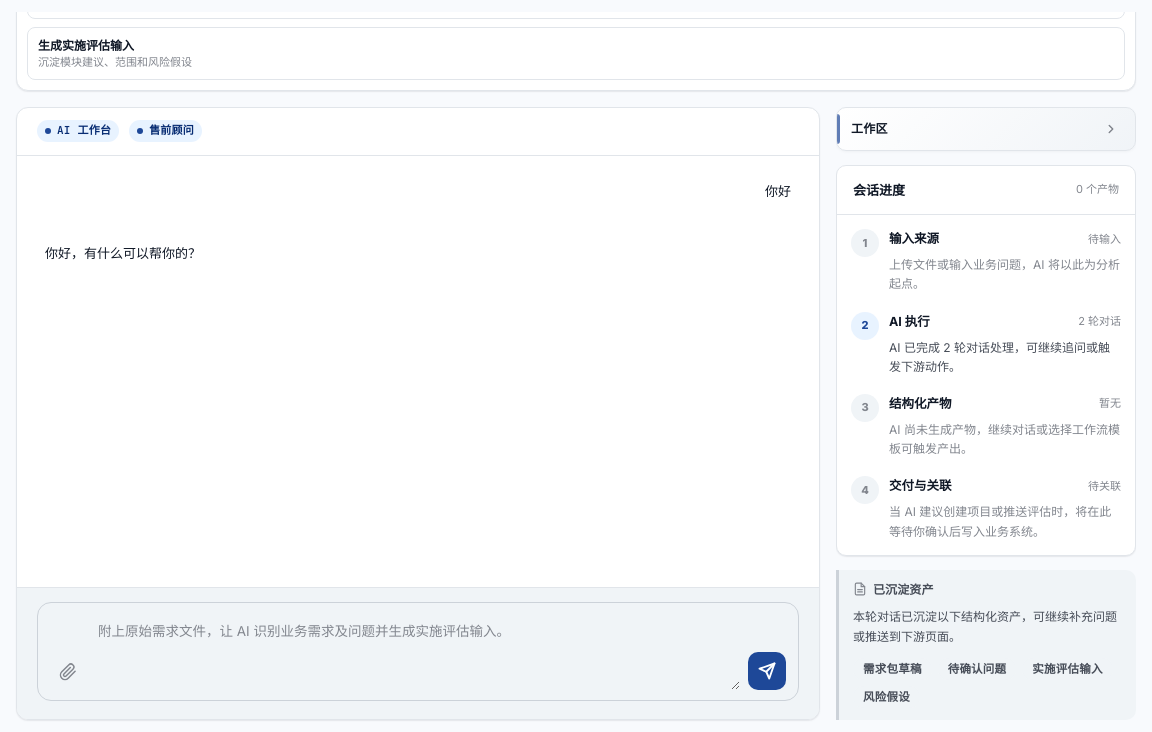
Test: run-submit: Step 3 前端发送路径 Run 化 › run-submit: enabled 时先尝试 Run 提交，202 后不走旧同步路径
(page scrolled)
Expected: the text "你好，有什么可以帮你的？" is shown, [45, 242, 201, 264]
Type "我的问题" into the text box at {"x": 417, "y": 651}, box [94, 613, 740, 690]
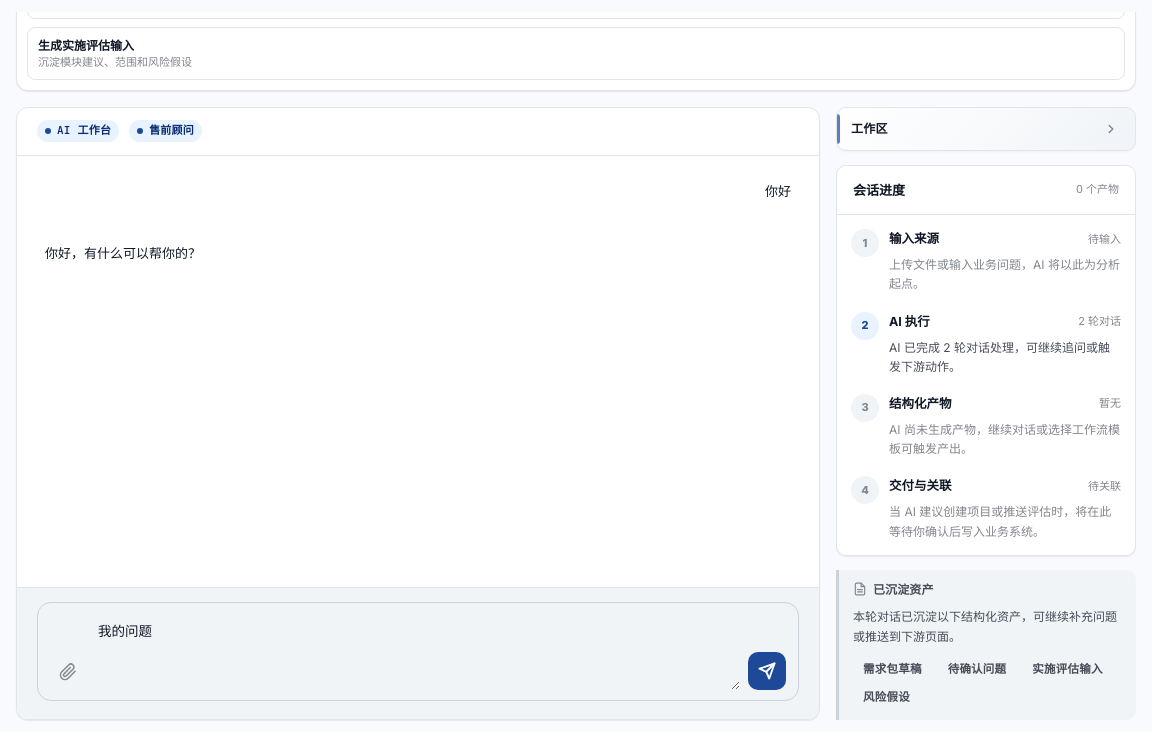
Click the button named "发送消息" at {"x": 767, "y": 671}, box [748, 652, 786, 690]
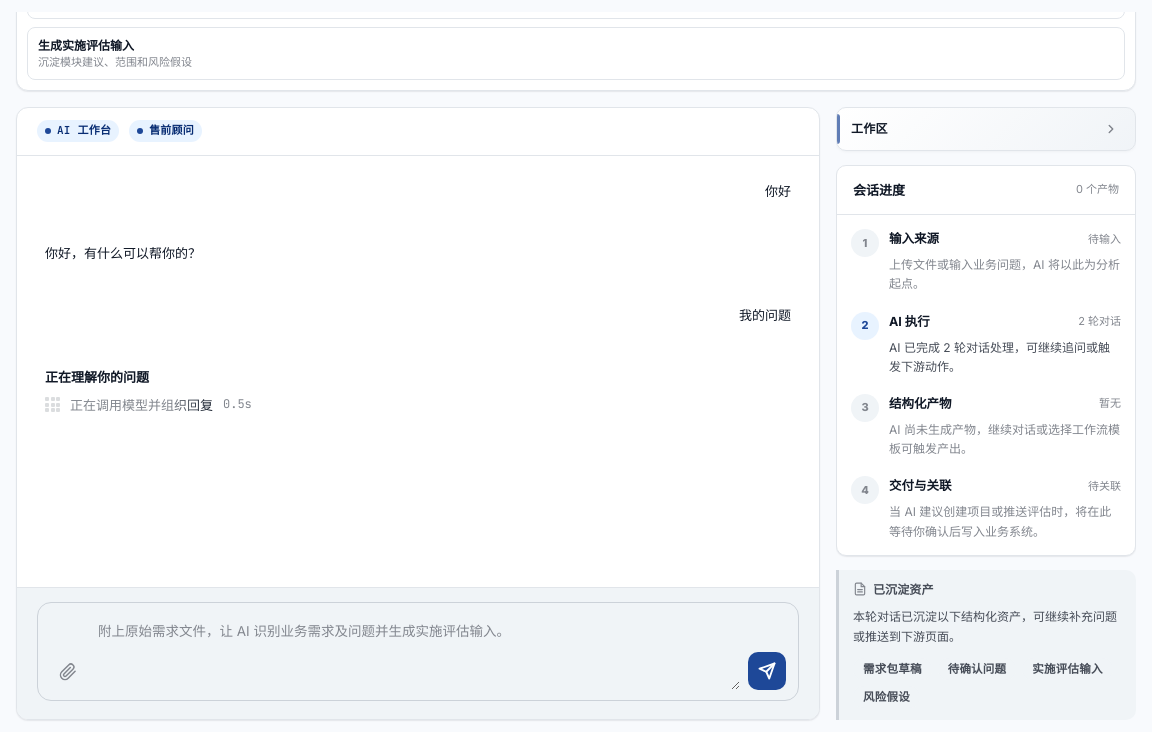
Expected: the text "正在理解你的问题" is shown, [45, 369, 149, 385]
